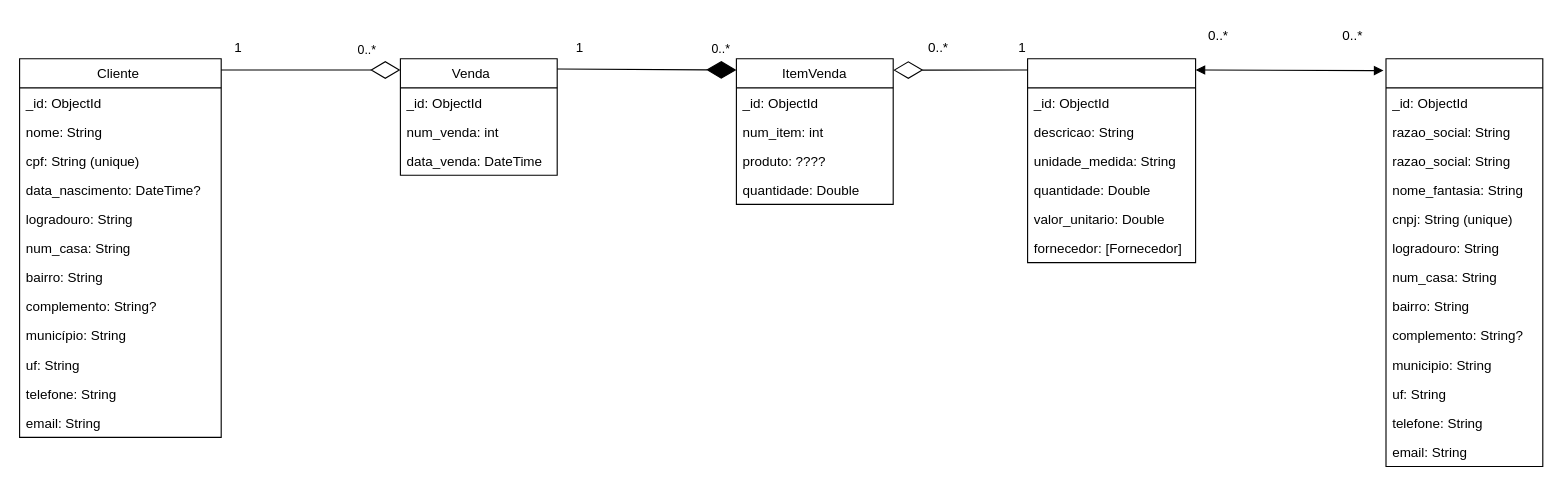
Image size: 1562x488. Some labels were removed from this diagram. The shapes that lost their labels are listed below. From the top down, each one's box as (x1, y1, x2, y2) in pixels, then its label:
(1026, 58, 1196, 263): Produto
(1385, 58, 1543, 466): Fornecedor
